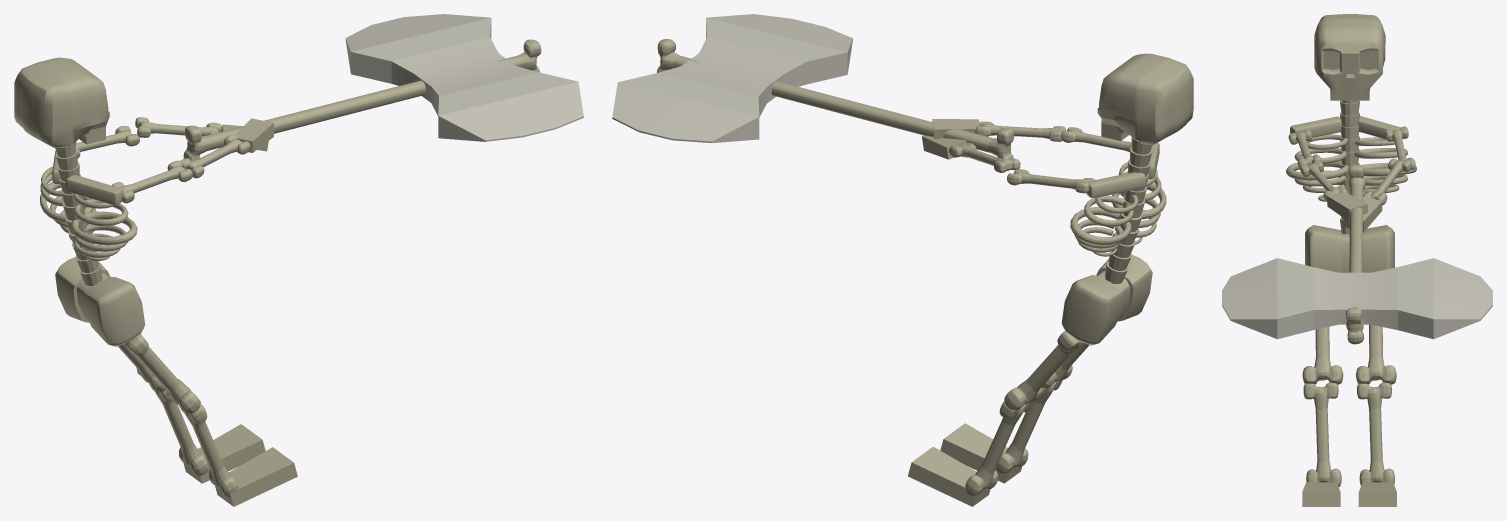
Rendered from AxeSkelleFinal.fbx.
3 views of the same model, side by side, from view 1: azimuth 30°, elevation 25°; view 2: azimuth 150°, elevation 25°; view 3: azimuth 270°, elevation 25° (orthographic). The views are drawn at different scales.
Parts seen in each view (by area): view 1: CombinedSkelle; view 2: CombinedSkelle; view 3: CombinedSkelle.
Part boxes in pixels (box(x1,y1,x2,y2)): CombinedSkelle: box(14, 14, 583, 506); CombinedSkelle: box(612, 14, 1193, 506); CombinedSkelle: box(1222, 14, 1492, 506).
Size of the model in its own units: 8.08 by 6.84 by 4.11.
